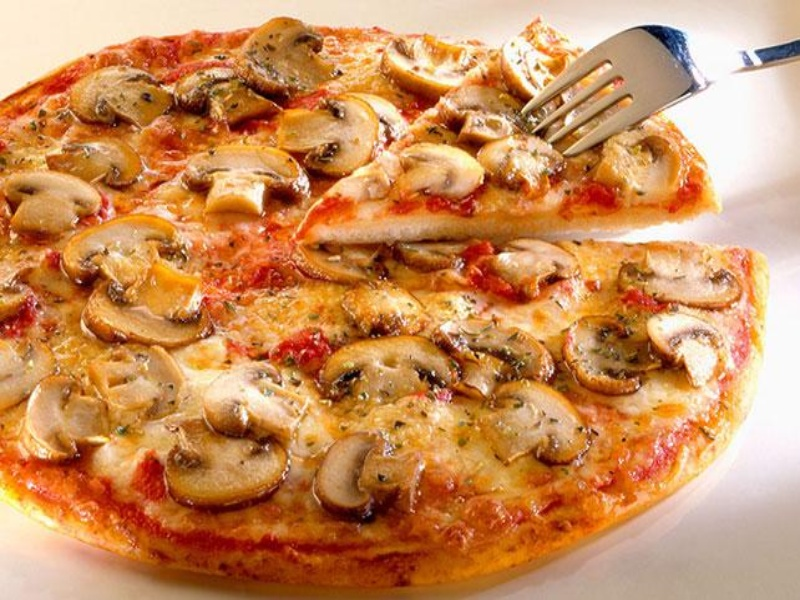champignon: (434, 313, 567, 411), (155, 425, 288, 516), (308, 432, 440, 520), (317, 327, 457, 408), (76, 280, 226, 352), (57, 211, 186, 293), (483, 377, 594, 470), (16, 369, 123, 465), (175, 142, 307, 219), (609, 246, 750, 315), (202, 361, 315, 445), (274, 94, 384, 179), (557, 311, 662, 396), (374, 31, 497, 103), (64, 62, 180, 137), (240, 13, 342, 98), (3, 164, 106, 244), (376, 140, 497, 204), (436, 87, 535, 146), (51, 136, 150, 194), (645, 314, 740, 370)
